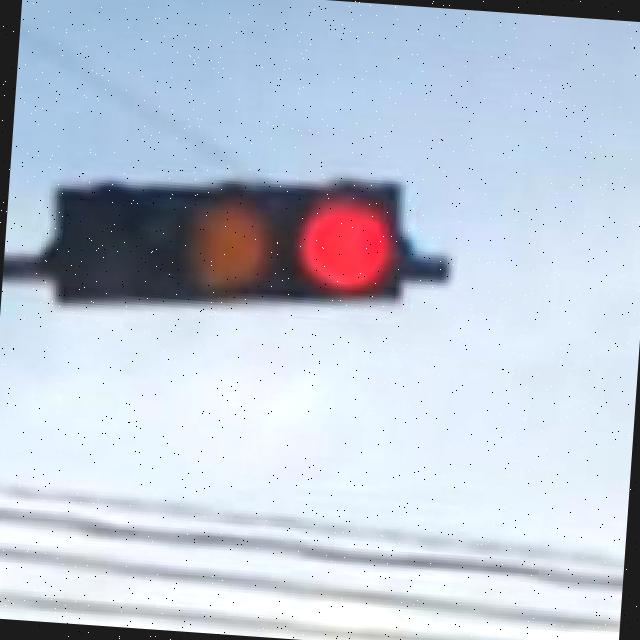Zolte swiatlo: (147, 250, 316, 618)
